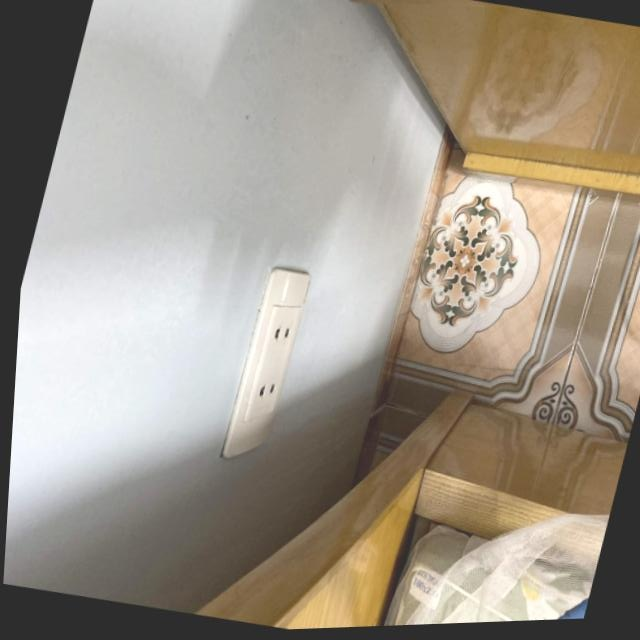outlet: (220, 265, 314, 467)
